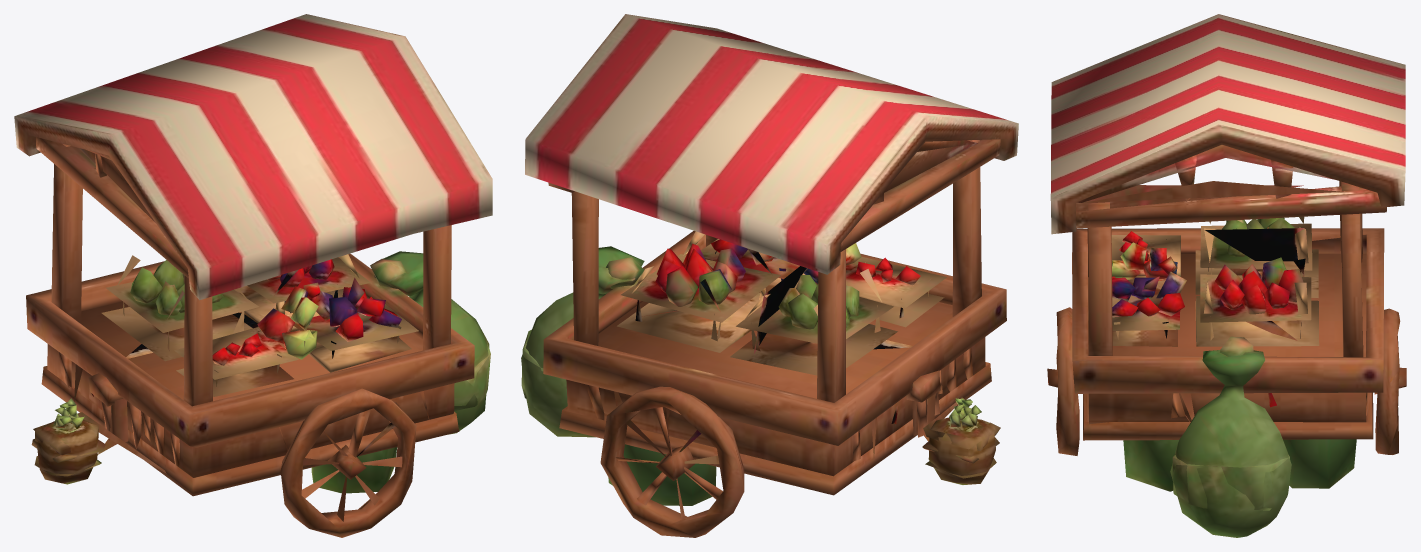
The model's file is cart_market_1.glb.
The picture shows the model from 3 angles, left to right: view 1: azimuth 30°, elevation 25°; view 2: azimuth 150°, elevation 25°; view 3: azimuth 270°, elevation 25°; orthographic projection. The views are drawn at different scales.
Parts seen in each view (by area): view 1: ЦІЛЬ; view 2: ЦІЛЬ; view 3: ЦІЛЬ.
Boxes of the visible parts, x1,y1,x2,y2 form: ЦІЛЬ: [14, 14, 492, 537]; ЦІЛЬ: [521, 14, 1018, 537]; ЦІЛЬ: [1047, 14, 1406, 537].
Size of the model in its own units: 0.9536 by 0.85 by 0.7052.
1 material, 1 textured.
